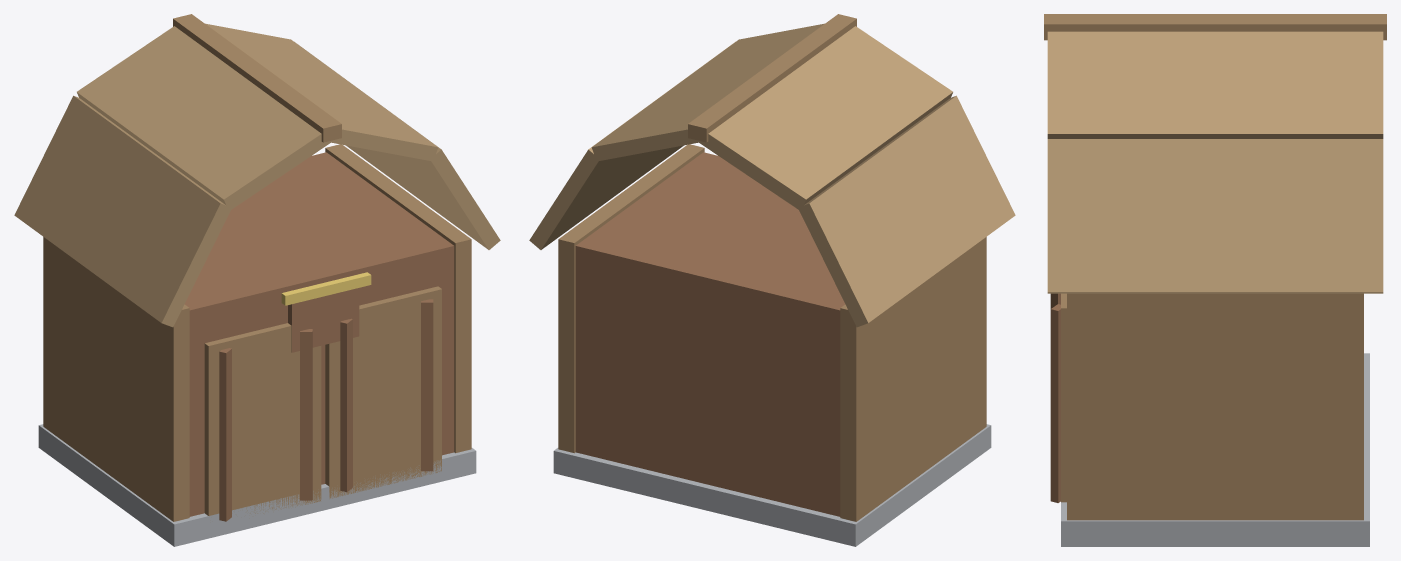
The model's file is barn.glb.
3 views of the same model, side by side, from view 1: azimuth 30°, elevation 25°; view 2: azimuth 150°, elevation 25°; view 3: azimuth 270°, elevation 25° (orthographic). The views are drawn at different scales.
Visible parts, largest first — view 1: walls.002, corner, roof_low_l, roof_high_l, barn_door.001, barn_door, foundation.002, roof_high_r, corner.001, roof_low_r, ridge.002, hayloft (+5 smaller); view 2: walls.002, corner, roof_low_l, roof_high_l, foundation.002, roof_high_r, corner.001, roof_low_r, ridge.002; view 3: corner.001, roof_low_r, roof_high_r, foundation.002, ridge.002, brace.003, barn_door.001.
Part boxes in pixels (left/top/right/bottom): walls.002: left=184, top=152, right=454, bottom=516; corner: left=43, top=237, right=189, bottom=521; roof_low_l: left=14, top=95, right=231, bottom=327; roof_high_l: left=77, top=26, right=333, bottom=210; barn_door.001: left=325, top=286, right=441, bottom=498; barn_door: left=204, top=323, right=321, bottom=515; foundation.002: left=38, top=424, right=476, bottom=546; roof_high_r: left=205, top=23, right=438, bottom=161; corner.001: left=325, top=144, right=471, bottom=453; roof_low_r: left=295, top=42, right=500, bottom=249; ridge.002: left=173, top=14, right=341, bottom=142; hayloft: left=288, top=288, right=359, bottom=352; walls.002: left=575, top=152, right=845, bottom=516; corner: left=840, top=237, right=986, bottom=521; roof_low_l: left=798, top=95, right=1015, bottom=327; roof_high_l: left=697, top=26, right=952, bottom=209; foundation.002: left=553, top=424, right=991, bottom=546; roof_high_r: left=591, top=23, right=824, bottom=161; corner.001: left=558, top=144, right=704, bottom=453; roof_low_r: left=529, top=42, right=734, bottom=249; ridge.002: left=688, top=14, right=856, bottom=142; corner.001: left=1067, top=293, right=1363, bottom=520; roof_low_r: left=1047, top=139, right=1383, bottom=293; roof_high_r: left=1047, top=31, right=1383, bottom=138; foundation.002: left=1061, top=353, right=1369, bottom=546; ridge.002: left=1044, top=14, right=1386, bottom=40; brace.003: left=1050, top=304, right=1060, bottom=502; barn_door.001: left=1061, top=293, right=1066, bottom=502.
Size of the model in its own units: 2.53 by 2.77 by 1.94.
